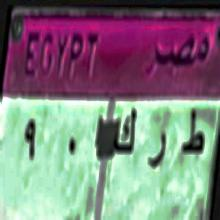0: (63, 124, 79, 164)
9: (22, 115, 39, 168)
Taa: (181, 106, 206, 168)
kaaf: (112, 100, 138, 164)
raa: (145, 123, 168, 178)
